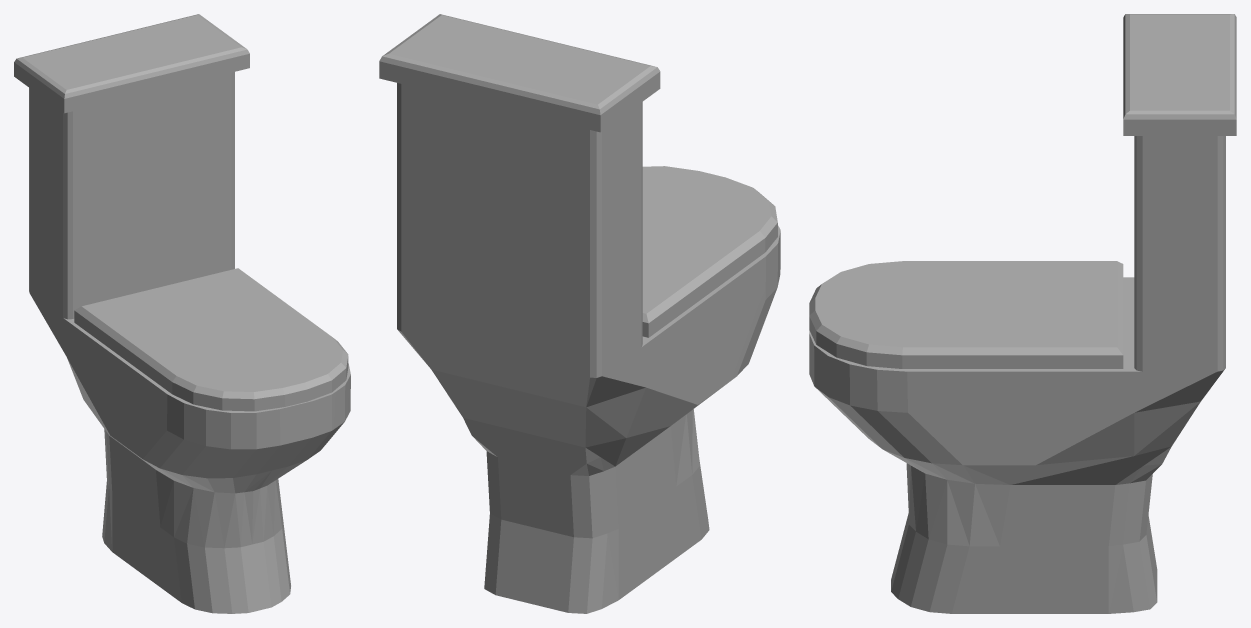
Rendered from Toilet.fbx.
3 renders of one model, left to right at view 1: azimuth 30°, elevation 25°; view 2: azimuth 150°, elevation 25°; view 3: azimuth 270°, elevation 25°, orthographic. The views are drawn at different scales.
Parts seen in each view (by area): view 1: Toilet, Seat; view 2: Toilet, Seat; view 3: Toilet, Seat.
Boxes of the visible parts, box(x1,y1,x2,y2) form: Toilet: box(14, 14, 350, 613); Seat: box(74, 268, 348, 411); Toilet: box(379, 14, 780, 613); Seat: box(642, 166, 777, 337); Toilet: box(809, 14, 1236, 613); Seat: box(809, 261, 1123, 368).
Size of the model in its own units: 43.67 by 104 by 77.23.
